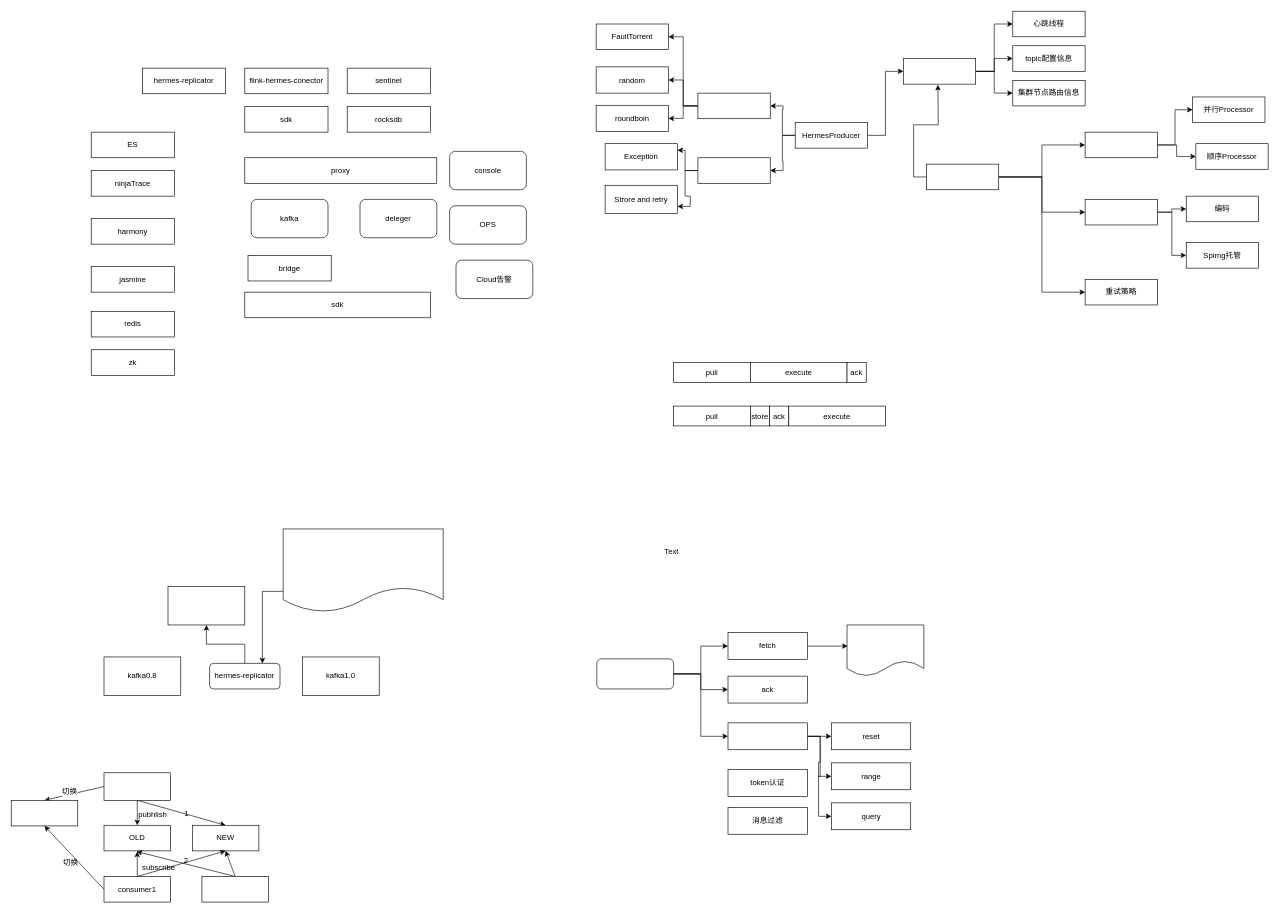
The diagram is 1279 pixels wide and 913 high, and some of its shapes have lost their labels. The shapes that lost their labels are listed below. From the top down, each one's centre as x and y in pixels, then its label:
(x=939, y=71): MQInstance
(x=733, y=105): 节点路由策略
(x=1120, y=145): 消费策略
(x=733, y=170): SendFailHandler
(x=962, y=177): HermesConsumer
(x=1120, y=212): 配置方式
(x=363, y=570): 支持多集群的复制 黑白名单控制，不丢消息 映射关系写入ES（采样） 支持高可用，异常报警，监控采集 支持topic的管理，复制渠道的添加和移除
(x=206, y=605): ZK 配置管理
(x=885, y=650): 定制化fetchSize，长连接设置，单分区size
(x=635, y=673): birdge
(x=767, y=736): 管理接口
(x=137, y=786): producer
(x=44, y=813): hermes-center
(x=234, y=889): consumer2
